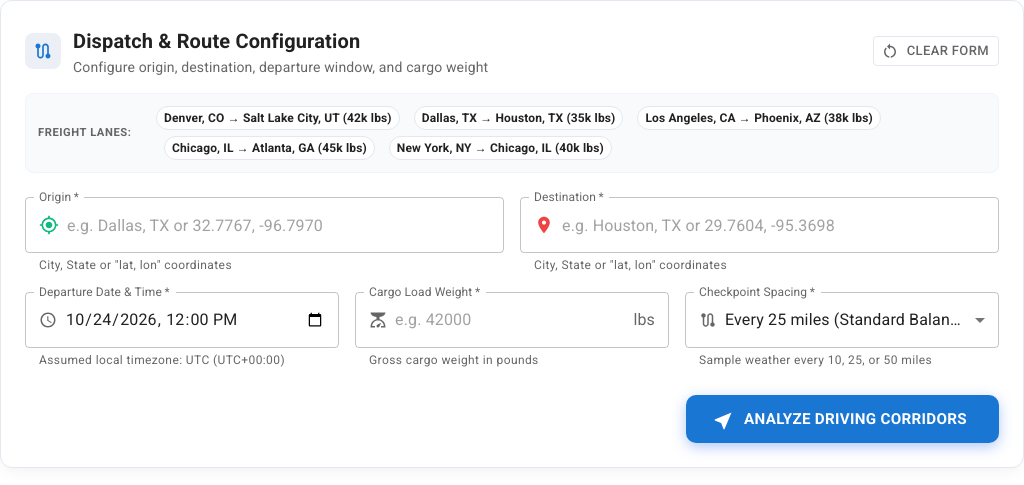
Test case: TripPlannerForm component › populates fields when a quick preset chip is clicked
Click the button "Dallas, TX → Houston, TX (35k lbs)": (519, 118) [414,106,624,130]
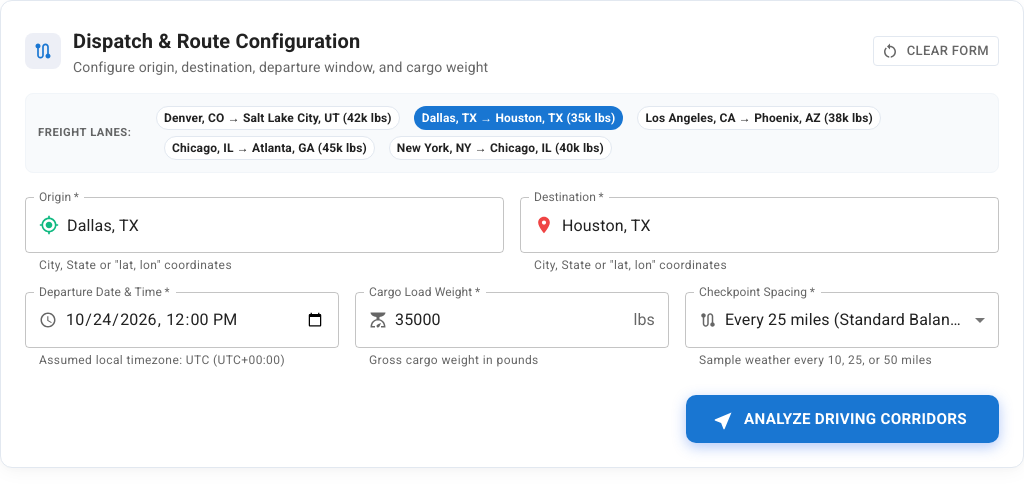
Expected: the field named "origin address" holds "Dallas, TX", [67,197,504,253]
Expected: the field named "destination address" holds "Houston, TX", [562,197,999,253]
Expected: the number field labelled "Cargo Load Weight *" holds "35000", [395,292,625,348]
